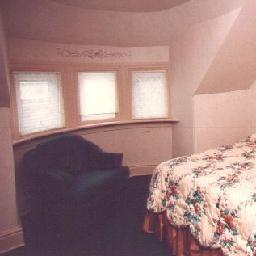Cama: (149, 135, 252, 251)
